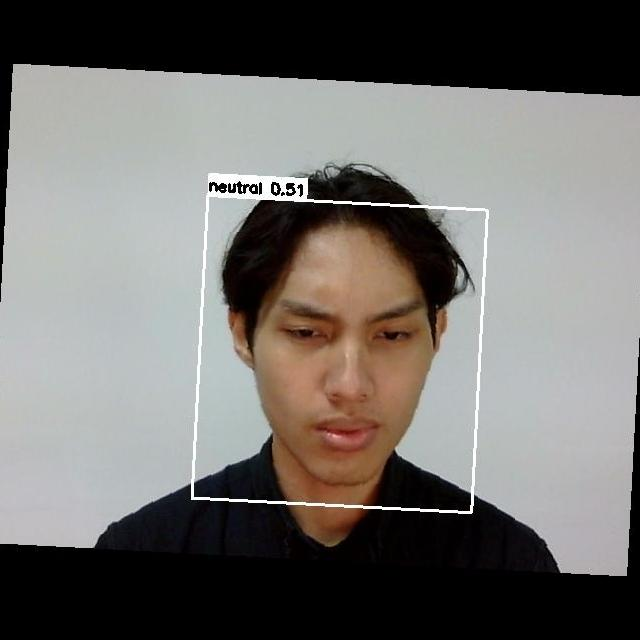Angry: (255, 275, 443, 472)
